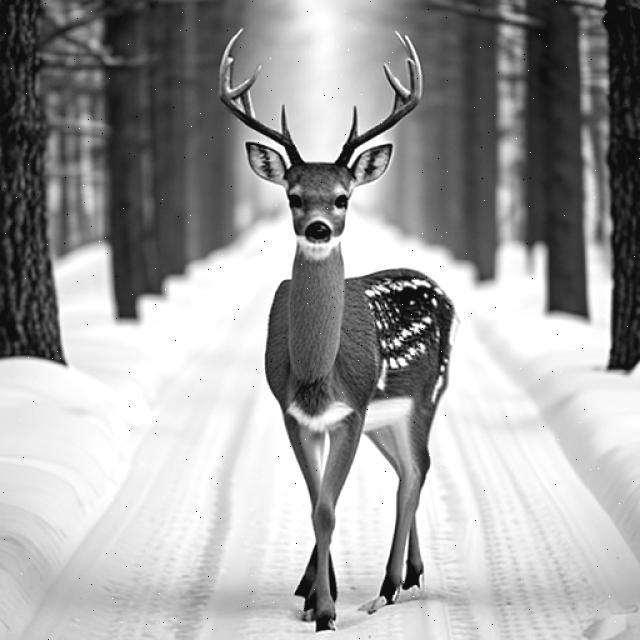deer: (189, 0, 505, 630)
